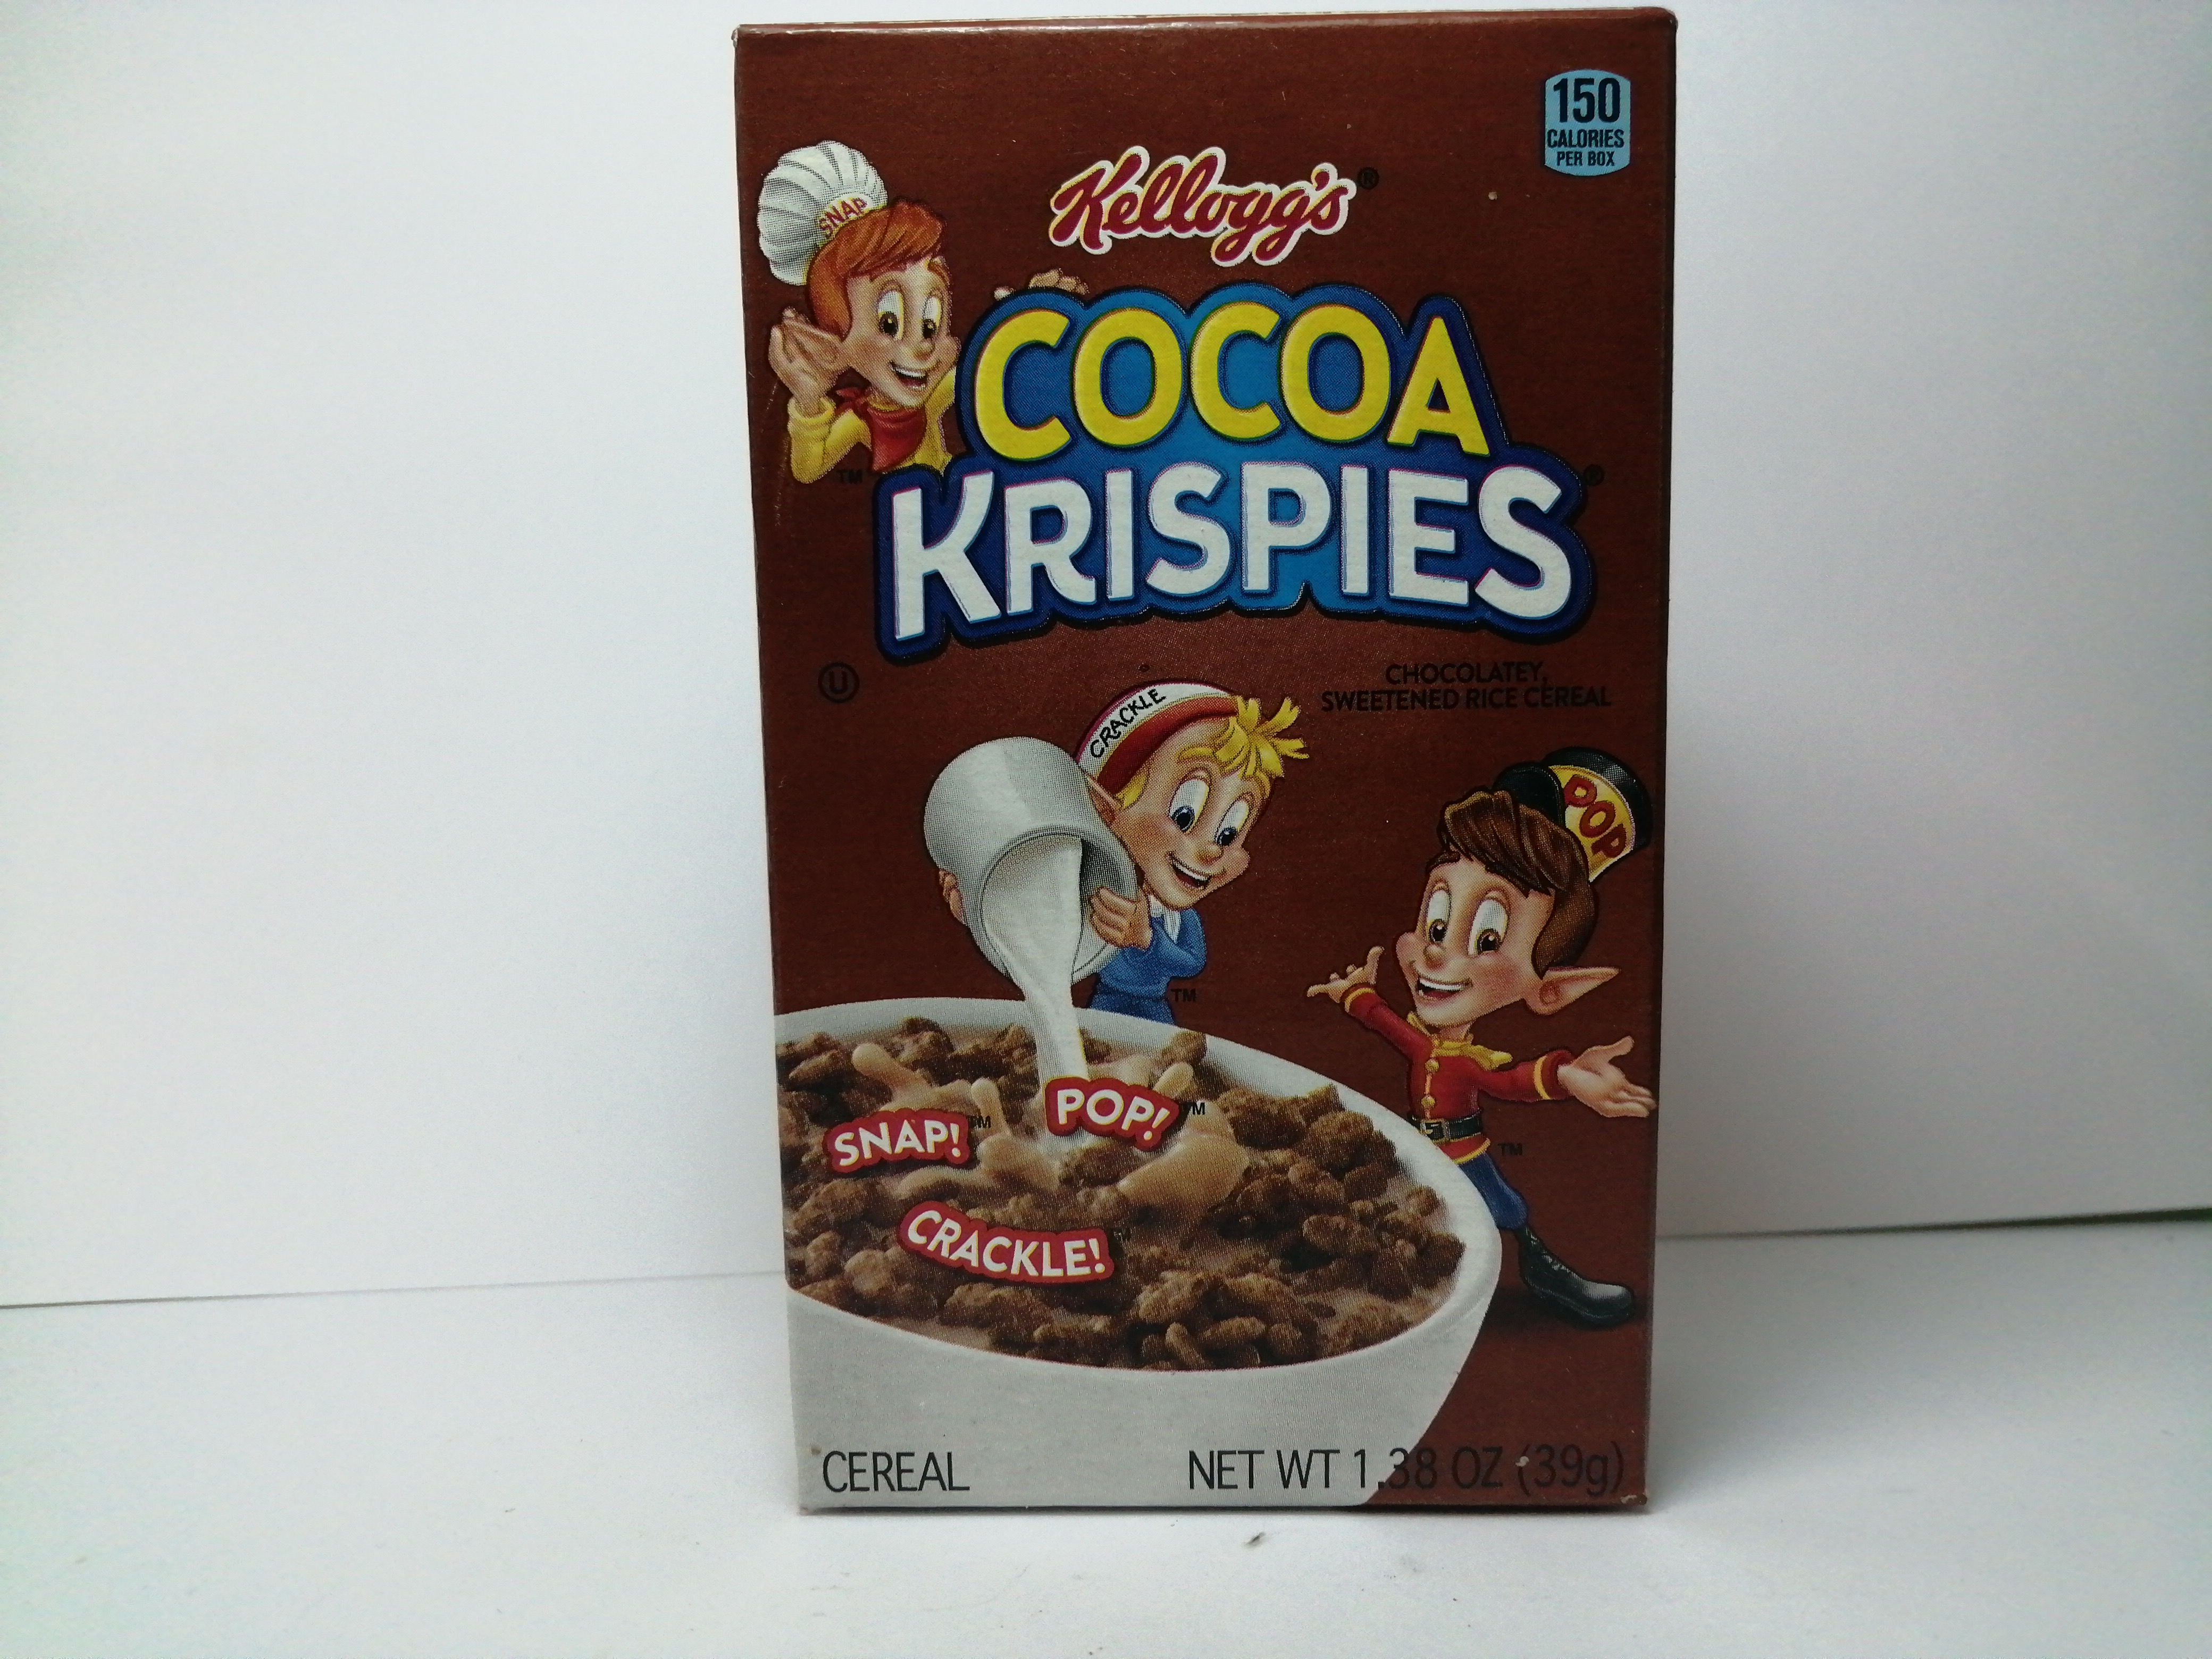cereal chocolate: (716, 5, 1689, 1534)
